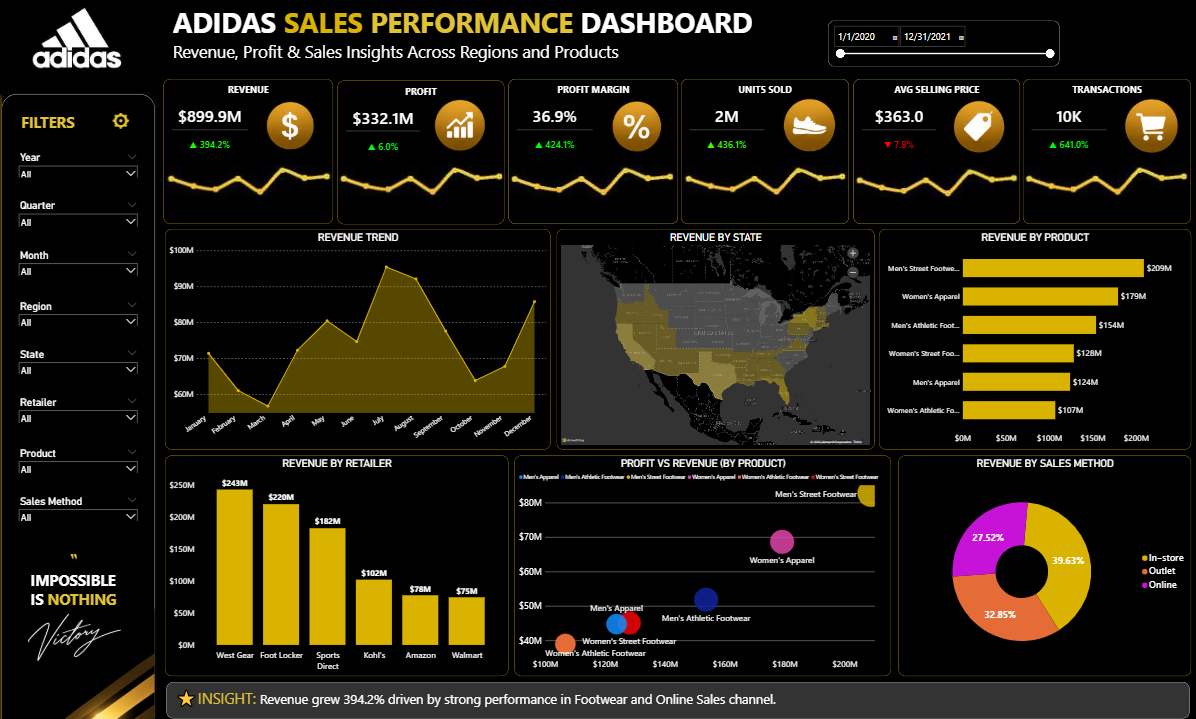

What the dashboard file says about the page in this screenshot:
{"tool":"powerbi","page":{"name":"Page 2","canvas":[3500,2110],"ordinal":1},"visuals":[{"type":"shape","box":[20,285,445,1825],"z":0},{"type":"image","box":[22.7,27.3,445.5,195.5],"z":1000},{"type":"cardVisual","fields":{"Data":["Data Sales Adidas.Profit Margin"]},"box":[1491.3,244.5,491.3,420],"z":2000},{"type":"cardVisual","fields":{"Data":["Data Sales Adidas.Revenue"]},"box":[492.2,244.5,491.3,420],"z":3000},{"type":"cardVisual","fields":{"Data":["Data Sales Adidas.Transaction"]},"box":[2983.5,244.5,487,420],"z":4000},{"type":"cardVisual","fields":{"Data":["Data Sales Adidas.Profit"]},"box":[995.8,245.8,483.3,416.7],"z":5000},{"type":"cardVisual","fields":{"Data":["Data Sales Adidas.Average Selling Price"]},"box":[2490.4,244.5,482.6,420],"z":6000},{"type":"cardVisual","fields":{"Data":["Data Sales Adidas.Total Units Sold"]},"box":[1993,244.5,487,420],"z":7000},{"type":"lineChart","title":"REVENUE TREND","fields":{"Category":["Data Sales Adidas.Month Name"],"Y":["Data Sales Adidas.Revenue"]},"box":[495.7,678.3,1117.4,639.1],"z":8000},{"type":"filledMap","title":"REVENUE BY STATE","fields":{"Category":["Data Sales Adidas.State"]},"box":[1628.3,678.3,921.7,639.1],"z":9000},{"type":"clusteredBarChart","title":"REVENUE BY PRODUCT","fields":{"Category":["Data Sales Adidas.Product"],"Y":["Data Sales Adidas.Revenue"]},"box":[2565.2,678.3,904.3,639.1],"z":10000},{"type":"clusteredColumnChart","title":"REVENUE BY RETAILER","fields":{"Category":["Data Sales Adidas.Retailer"],"Y":["Data Sales Adidas.Revenue"]},"box":[495.7,1334.8,995.7,639.1],"z":11000},{"type":"donutChart","title":"REVENUE BY SALES METHOD","fields":{"Category":["Data Sales Adidas.Sales Method"],"Y":["Data Sales Adidas.Revenue"]},"box":[2621.7,1334.8,847.8,639.1],"z":12000},{"type":"scatterChart","title":"PROFIT VS REVENUE (BY PRODUCT)","fields":{"X":["Data Sales Adidas.Revenue"],"Y":["Data Sales Adidas.Profit"],"Series":["Data Sales Adidas.Product"],"Size":["Sum(Data Sales Adidas.Units Sold)"]},"box":[1510.9,1334.8,1091.3,639.1],"z":13000},{"type":"textbox","box":[513,17.4,2304.3,165.2],"z":14000},{"type":"textbox","box":[513,126.1,1765.2,91.3],"z":15000},{"type":"slicer","fields":{"Values":["Data Sales Adidas.Year"]},"box":[56.3,442.9,375,85.7],"z":16000},{"type":"slicer","fields":{"Values":["Data Sales Adidas.Quarter"]},"box":[56.3,583.7,375,89.3],"z":17000},{"type":"slicer","fields":{"Values":["Data Sales Adidas.Month Name"]},"box":[56.3,728.1,375,89.3],"z":18000},{"type":"slicer","fields":{"Values":["Data Sales Adidas.Region"]},"box":[56.3,872.4,375,85.7],"z":19000},{"type":"slicer","fields":{"Values":["Data Sales Adidas.State"]},"box":[56.3,1013.3,375,85.7],"z":20000},{"type":"slicer","fields":{"Values":["Data Sales Adidas.Retailer"]},"box":[56.3,1154.1,375,89.3],"z":21000},{"type":"slicer","fields":{"Values":["Data Sales Adidas.Product"]},"box":[56.3,1298.5,375,85.7],"z":22000},{"type":"slicer","fields":{"Values":["Data Sales Adidas.Sales Method"]},"box":[56.3,1439.3,375,85.7],"z":23000},{"type":"textbox","box":[29.2,1566.7,354.2,245.8],"z":24000},{"type":"image","box":[1000,455.6,477.8,172.2],"z":25000},{"type":"image","box":[1496.3,455.6,477,174.1],"z":26000},{"type":"image","box":[500,455.6,477.8,172.2],"z":27000},{"type":"image","box":[2000,455.6,472,172.2],"z":28000},{"type":"image","box":[2494.4,461.1,474,172.2],"z":29000},{"type":"image","box":[2988.9,455.6,475,172.2],"z":30000},{"type":"textbox","box":[500,1990,2965,105],"z":31000},{"type":"textbox","box":[73.9,317.4,369.6,108.7],"z":32000},{"type":"image","box":[766.7,287.5,186,182],"z":33000},{"type":"image","box":[1275,295.8,155,163],"z":34000},{"type":"image","box":[1787.5,304.2,152,154],"z":35000},{"type":"image","box":[2279.2,295.8,165,165],"z":36000},{"type":"image","box":[2770.8,295.8,173,170.8],"z":37000},{"type":"image","box":[3275,295.8,162.5,165],"z":38000},{"type":"image","box":[50,1779.2,412.5,329.2],"z":39000},{"type":"slicer","fields":{"Values":["Data Sales Adidas.Invoice Date"]},"box":[2416.7,75,670.8,133.3],"z":40000}]}

Visuals, with their boxes in screenshot pixels (x1, y1, x2, y2), scaled from the page's 3500x2110 canvas onto the 1196x719 screenshot:
shape: (7, 97, 159, 718)
image: (8, 9, 160, 76)
cardVisual - Data Sales Adidas.Profit Margin: (510, 83, 677, 226)
cardVisual - Data Sales Adidas.Revenue: (168, 83, 336, 226)
cardVisual - Data Sales Adidas.Transaction: (1020, 83, 1186, 226)
cardVisual - Data Sales Adidas.Profit: (340, 84, 505, 226)
cardVisual - Data Sales Adidas.Average Selling Price: (851, 83, 1016, 226)
cardVisual - Data Sales Adidas.Total Units Sold: (681, 83, 847, 226)
"REVENUE TREND" lineChart: (169, 231, 551, 449)
"REVENUE BY STATE" filledMap: (556, 231, 871, 449)
"REVENUE BY PRODUCT" clusteredBarChart: (877, 231, 1186, 449)
"REVENUE BY RETAILER" clusteredColumnChart: (169, 455, 510, 673)
"REVENUE BY SALES METHOD" donutChart: (896, 455, 1186, 673)
"PROFIT VS REVENUE (BY PRODUCT)" scatterChart: (516, 455, 889, 673)
textbox: (175, 6, 963, 62)
textbox: (175, 43, 778, 74)
slicer - Data Sales Adidas.Year: (19, 151, 147, 180)
slicer - Data Sales Adidas.Quarter: (19, 199, 147, 229)
slicer - Data Sales Adidas.Month Name: (19, 248, 147, 279)
slicer - Data Sales Adidas.Region: (19, 297, 147, 326)
slicer - Data Sales Adidas.State: (19, 345, 147, 374)
slicer - Data Sales Adidas.Retailer: (19, 393, 147, 424)
slicer - Data Sales Adidas.Product: (19, 442, 147, 472)
slicer - Data Sales Adidas.Sales Method: (19, 490, 147, 520)
textbox: (10, 534, 131, 618)
image: (342, 155, 505, 214)
image: (511, 155, 674, 215)
image: (171, 155, 334, 214)
image: (683, 155, 845, 214)
image: (852, 157, 1014, 216)
image: (1021, 155, 1184, 214)
textbox: (171, 678, 1184, 714)
textbox: (25, 108, 152, 145)
image: (262, 98, 326, 160)
image: (436, 101, 489, 156)
image: (611, 104, 663, 156)
image: (779, 101, 835, 157)
image: (947, 101, 1006, 159)
image: (1119, 101, 1175, 157)
image: (17, 606, 158, 718)
slicer - Data Sales Adidas.Invoice Date: (826, 26, 1055, 71)
